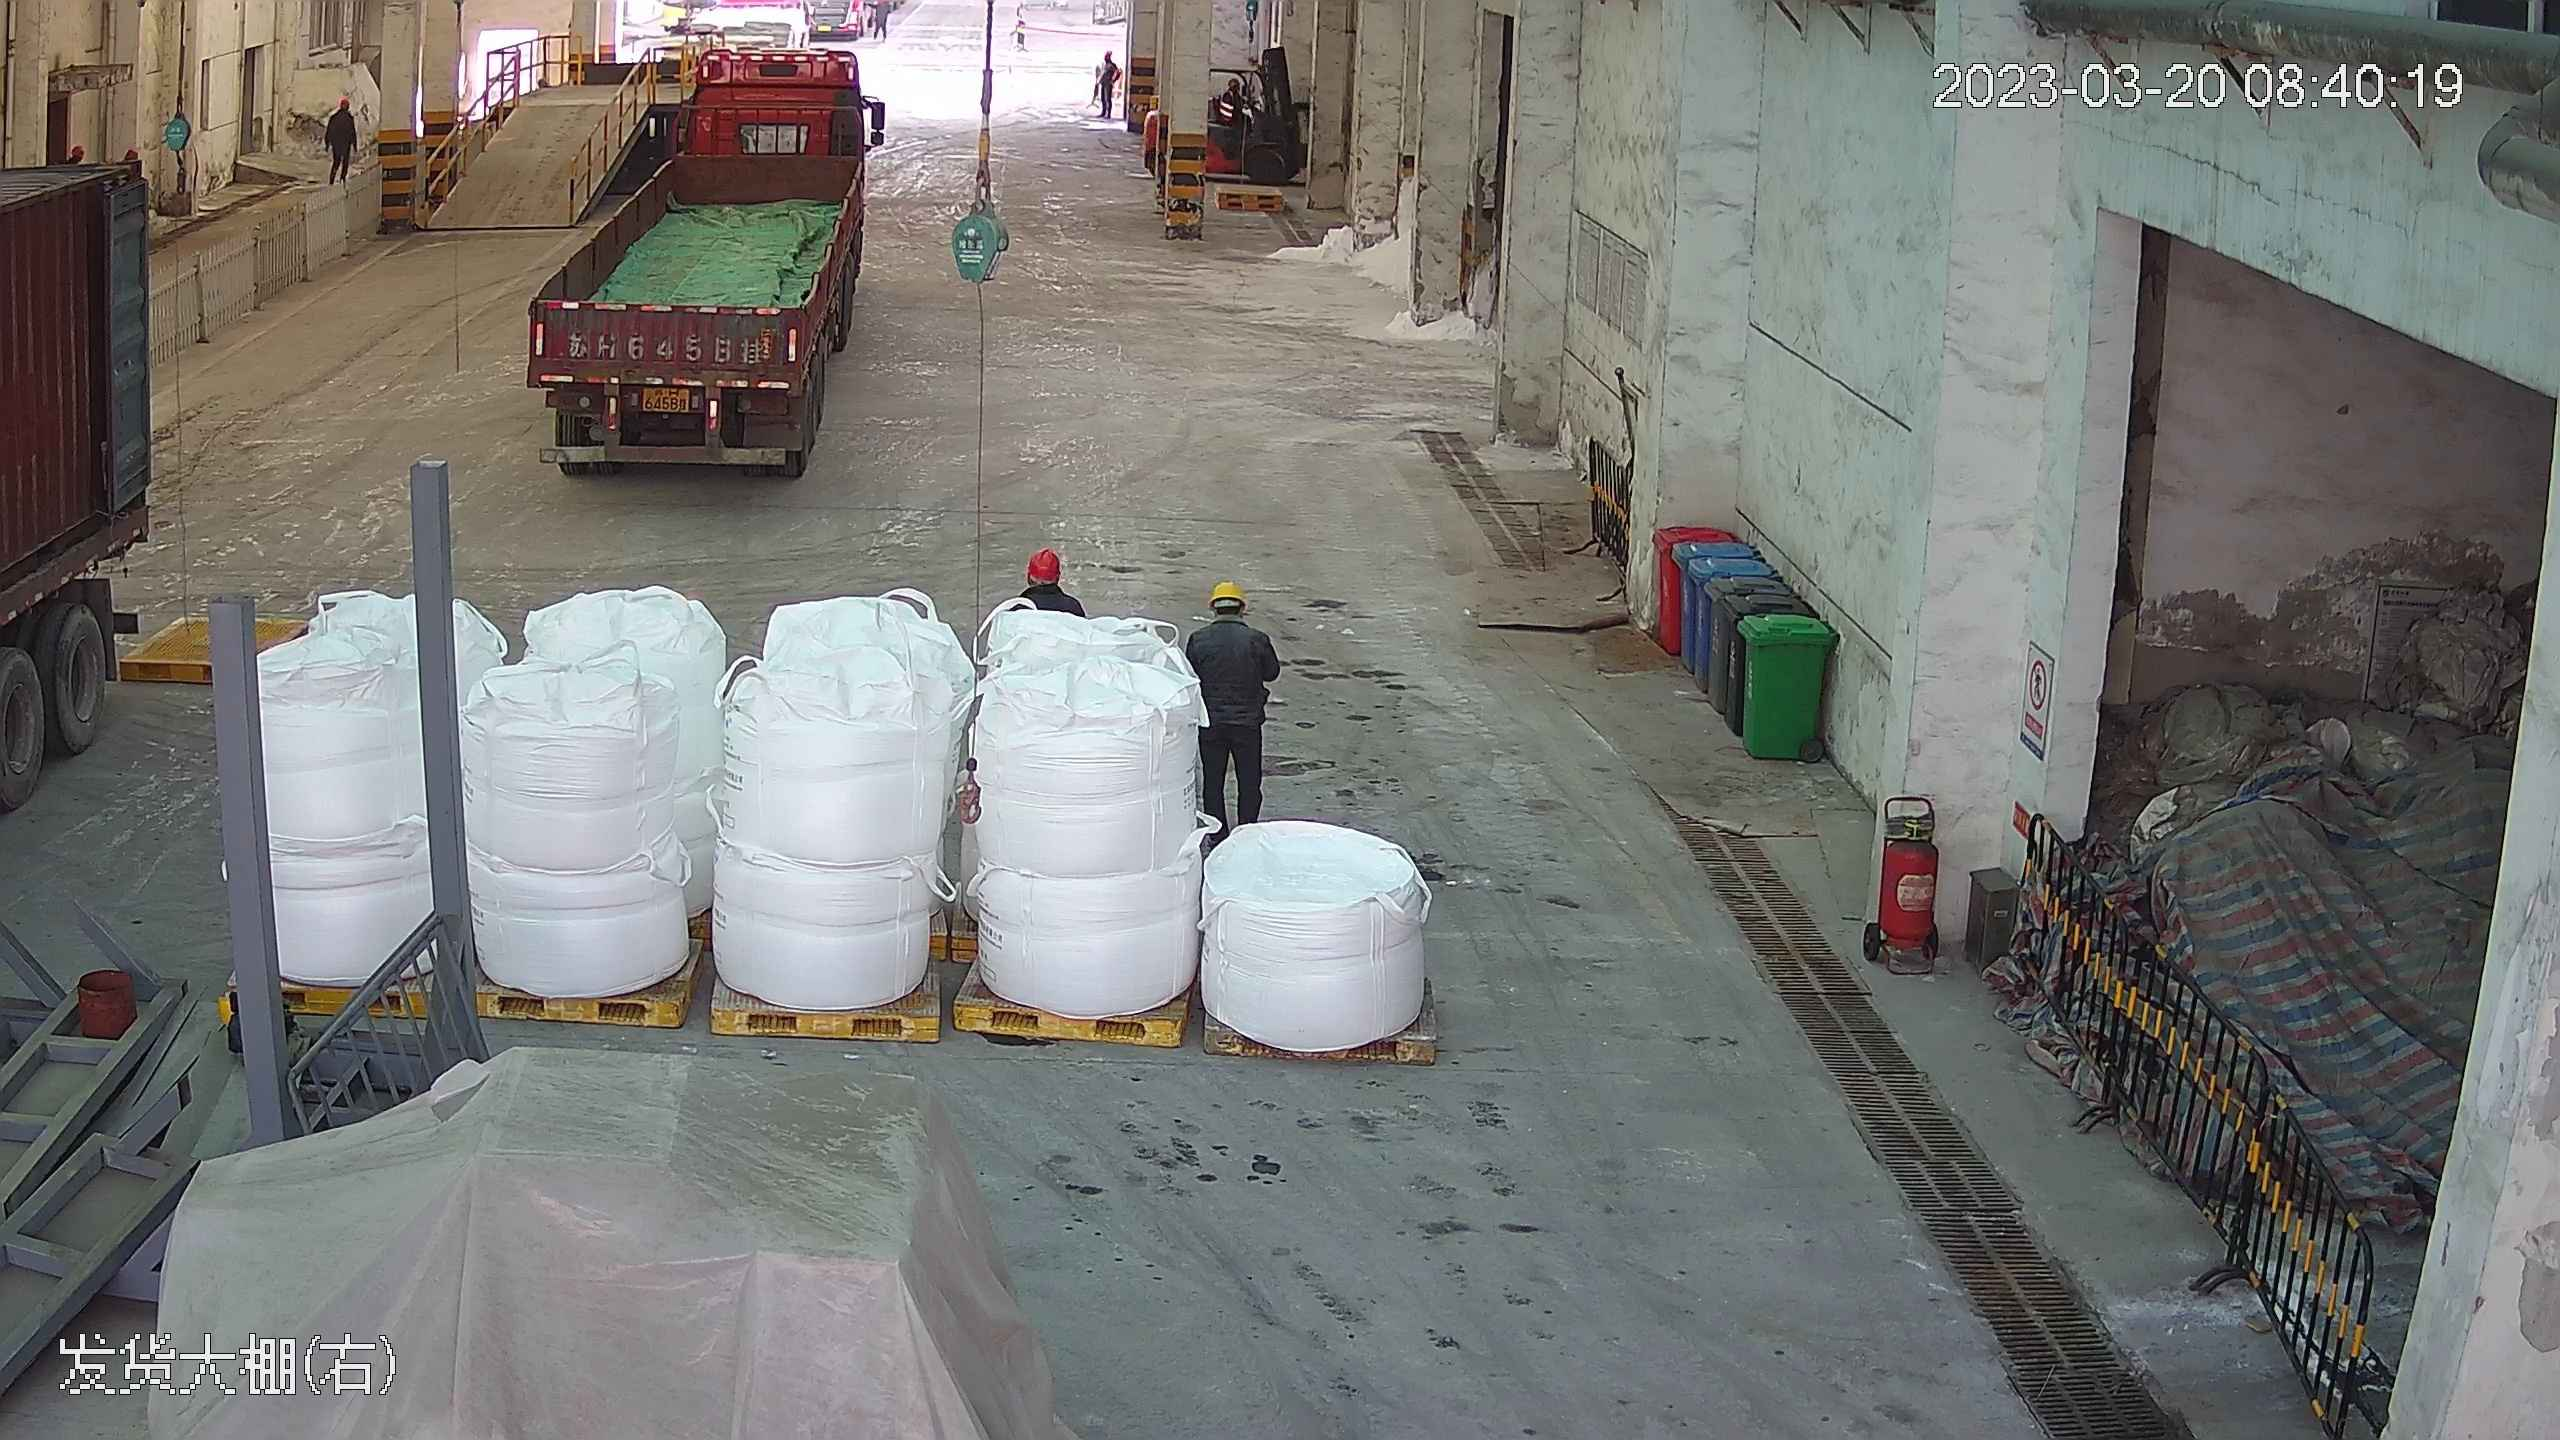head: (1189, 576, 1275, 659), (1010, 544, 1080, 618), (327, 91, 355, 123)
helmet: (1205, 577, 1248, 608), (1024, 544, 1061, 577)
people: (1183, 575, 1283, 848), (321, 87, 361, 181), (1092, 45, 1118, 128)
truck: (512, 23, 875, 483), (1, 15, 183, 876)
